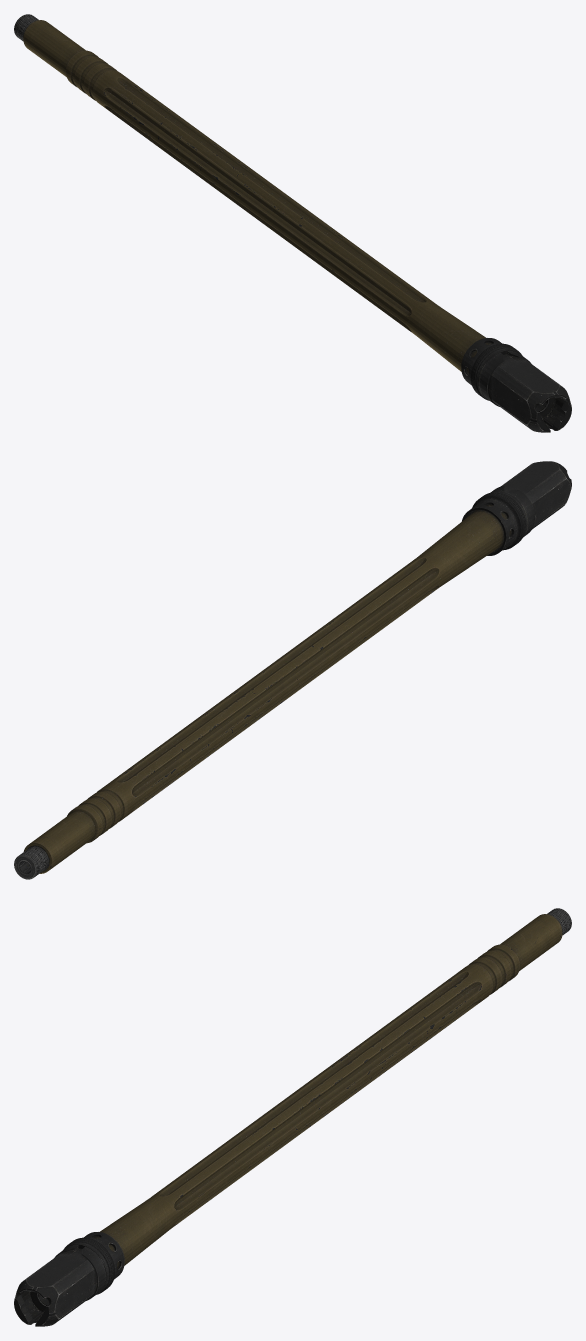
3 views of the same model, one above another, from view 1: azimuth 30°, elevation 25°; view 2: azimuth 150°, elevation 25°; view 3: azimuth 330°, elevation 25° (orthographic).
Visible parts, largest first — view 1: TW_67405e3b83ac5c69ae025406_PZ_Import; view 2: TW_67405e3b83ac5c69ae025406_PZ_Import; view 3: TW_67405e3b83ac5c69ae025406_PZ_Import.
Boxes of the visible parts, x1,y1,x2,y2 form: TW_67405e3b83ac5c69ae025406_PZ_Import: (14, 14, 571, 432); TW_67405e3b83ac5c69ae025406_PZ_Import: (14, 461, 571, 879); TW_67405e3b83ac5c69ae025406_PZ_Import: (14, 908, 571, 1326).
Bounding box in the file's own units: 0.0225 × 0.4044 × 0.0225.
1 material, 1 textured.
